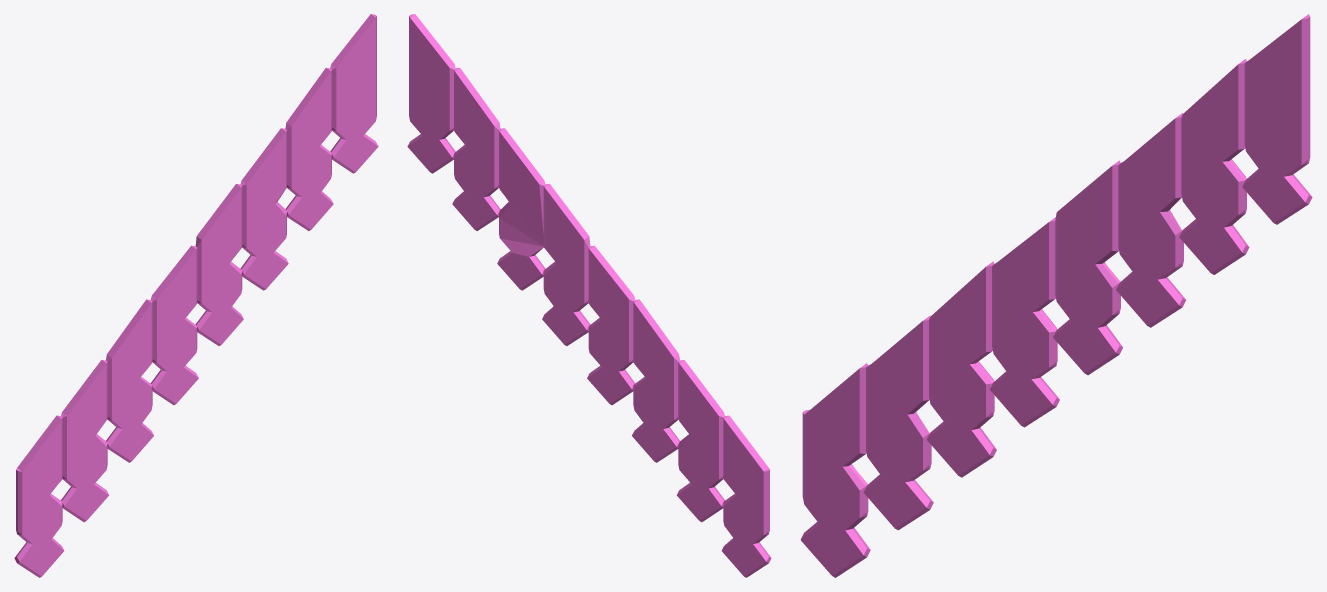
Rendered from SM_Wall_Deco_Wood_Rim_Stairs_2m_Fantasy.fbx.
3 views of the same model, side by side, from view 1: azimuth 30°, elevation 25°; view 2: azimuth 150°, elevation 25°; view 3: azimuth 330°, elevation 25° (orthographic). The views are drawn at different scales.
Parts seen in each view (by area): view 1: SM_Wall_Deco_Wood_Rim_Stairs_2m_Fantasy; view 2: SM_Wall_Deco_Wood_Rim_Stairs_2m_Fantasy; view 3: SM_Wall_Deco_Wood_Rim_Stairs_2m_Fantasy.
Boxes of the visible parts, <box> form: SM_Wall_Deco_Wood_Rim_Stairs_2m_Fantasy: <box>14,14,378,577</box>; SM_Wall_Deco_Wood_Rim_Stairs_2m_Fantasy: <box>407,14,771,577</box>; SM_Wall_Deco_Wood_Rim_Stairs_2m_Fantasy: <box>800,14,1312,577</box>.
Bounding box in the file's own units: 2 × 2.56 × 0.05.
